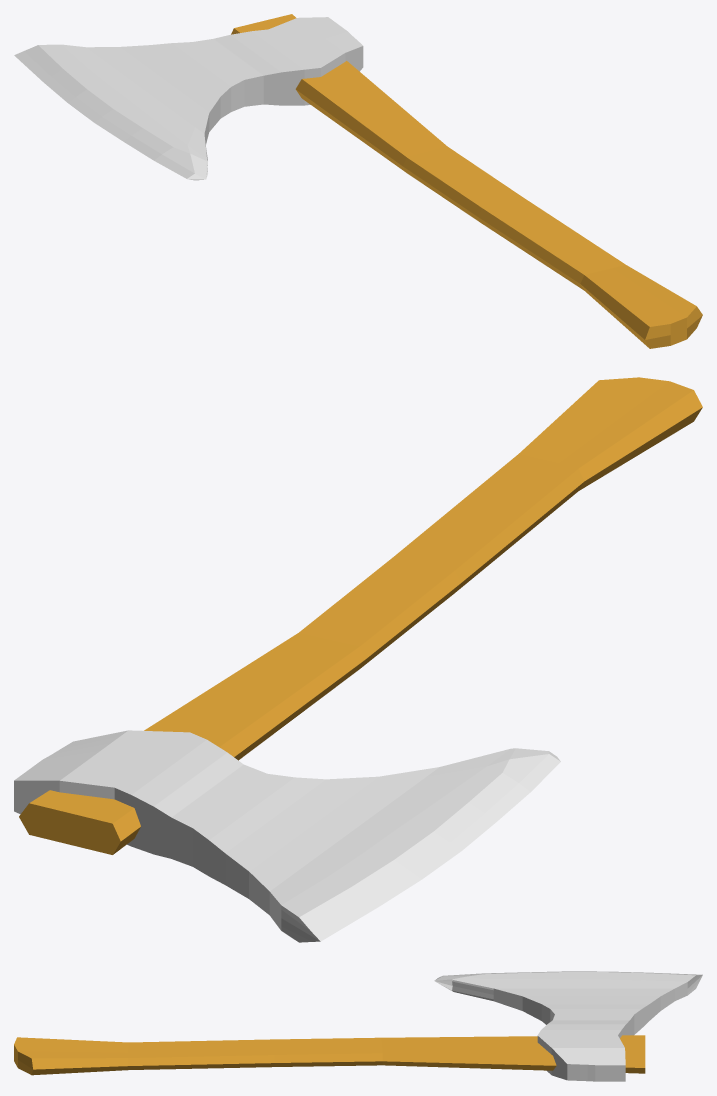
File: axe01.glb
3 renders of one model, top to bottom at view 1: azimuth 30°, elevation 25°; view 2: azimuth 150°, elevation 25°; view 3: azimuth 270°, elevation 25°, orthographic. The views are drawn at different scales.
Parts seen in each view (by area): view 1: Cube, Cube.001; view 2: Cube, Cube.001; view 3: Cube.001, Cube.
Part boxes in pixels (bbox=[...]): Cube: bbox=[14, 17, 363, 180]; Cube.001: bbox=[231, 14, 702, 348]; Cube: bbox=[14, 730, 560, 942]; Cube.001: bbox=[19, 377, 702, 854]; Cube.001: bbox=[14, 1035, 645, 1075]; Cube: bbox=[434, 971, 702, 1081].
Bounding box in the file's own units: 1.67 × 0.2097 × 4.76.
